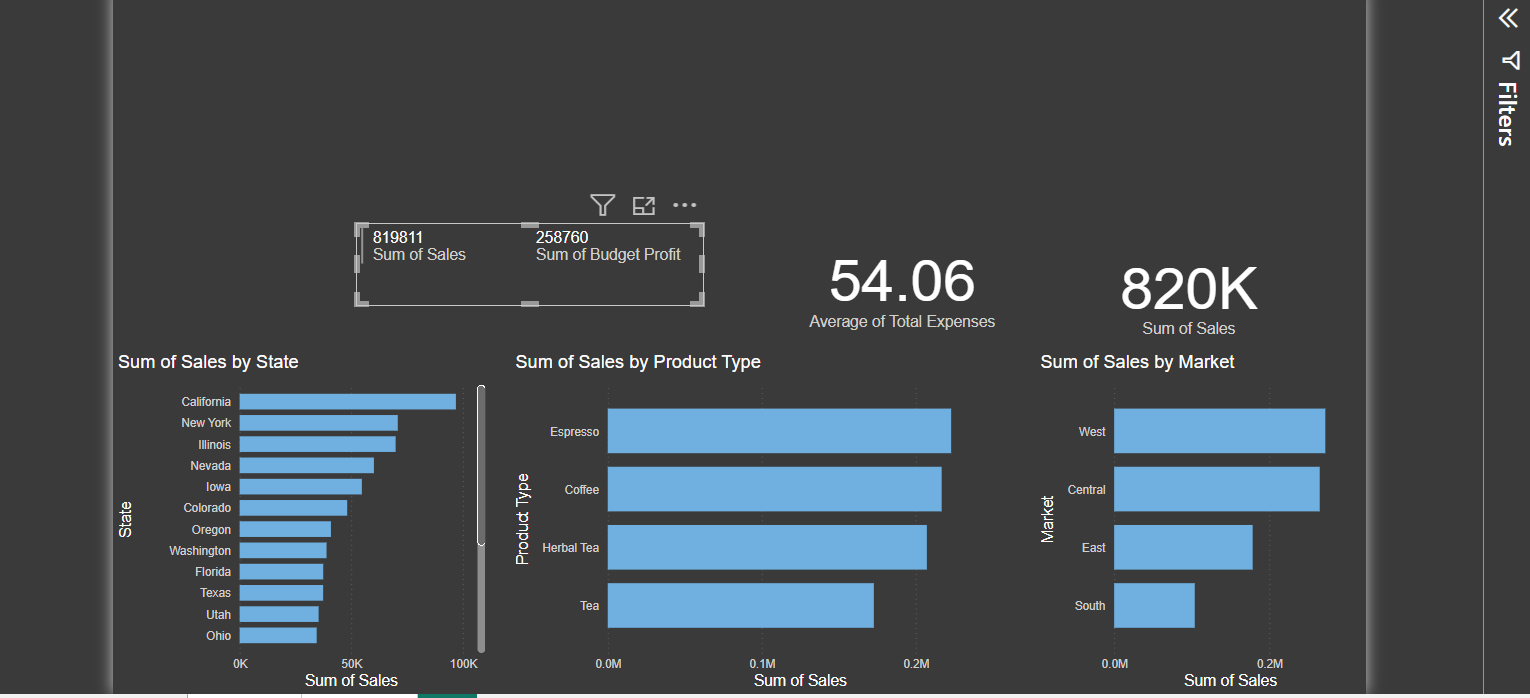

The dashboard page shown, as its layout file describes it:
{"tool":"powerbi","page":{"name":"Page 2","canvas":[1280,720],"ordinal":1},"visuals":[{"type":"clusteredBarChart","fields":{"Category":["Coffee Chain Simplified Data Corrected.State"],"Y":["Sum(Coffee Chain Simplified Data Corrected.Sales)"]},"box":[0,370.9,384.9,349.1],"z":0},{"type":"card","fields":{"Values":["Sum(Coffee Chain Simplified Data Corrected.Sales)"]},"box":[962,258.9,272.7,101.1],"z":1000},{"type":"clusteredBarChart","fields":{"Category":["Coffee Chain Simplified Data Corrected.Market"],"Y":["Sum(Coffee Chain Simplified Data Corrected.Sales)"]},"box":[942.9,370.9,336.6,349.1],"z":2000},{"type":"clusteredBarChart","fields":{"Category":["Coffee Chain Simplified Data Corrected.Product Type"],"Y":["Sum(Coffee Chain Simplified Data Corrected.Sales)"]},"box":[405.2,370.9,511.2,349.1],"z":3000},{"type":"card","fields":{"Values":["Avg(Coffee Chain Simplified Data Corrected.Total Expenses)"]},"box":[694,223.7,223.7,156.3],"z":3001},{"type":"multiRowCard","fields":{"Values":["Sum(Coffee Chain Simplified Data Corrected.Sales)","Sum(Coffee Chain Simplified Data Corrected.Budget Profit)"]},"box":[248.2,239,355.4,84.3],"z":3002}]}

Visuals, with their boxes on the page's 1280x720 design canvas (x1, y1, x2, y2). These are canvas units, not pixel positions in the 1530x698 screenshot, which may show the page scaled, cropped or inside an application window:
clusteredBarChart - Coffee Chain Simplified Data Corrected.State x Sum(Coffee Chain Simplified Data Corrected.Sales): (x1=0, y1=371, x2=385, y2=720)
card - Sum(Coffee Chain Simplified Data Corrected.Sales): (x1=962, y1=259, x2=1235, y2=360)
clusteredBarChart - Coffee Chain Simplified Data Corrected.Market x Sum(Coffee Chain Simplified Data Corrected.Sales): (x1=943, y1=371, x2=1280, y2=720)
clusteredBarChart - Coffee Chain Simplified Data Corrected.Product Type x Sum(Coffee Chain Simplified Data Corrected.Sales): (x1=405, y1=371, x2=916, y2=720)
card - Avg(Coffee Chain Simplified Data Corrected.Total Expenses): (x1=694, y1=224, x2=918, y2=380)
multiRowCard - Sum(Coffee Chain Simplified Data Corrected.Sales) x Sum(Coffee Chain Simplified Data Corrected.Budget Profit): (x1=248, y1=239, x2=604, y2=323)
